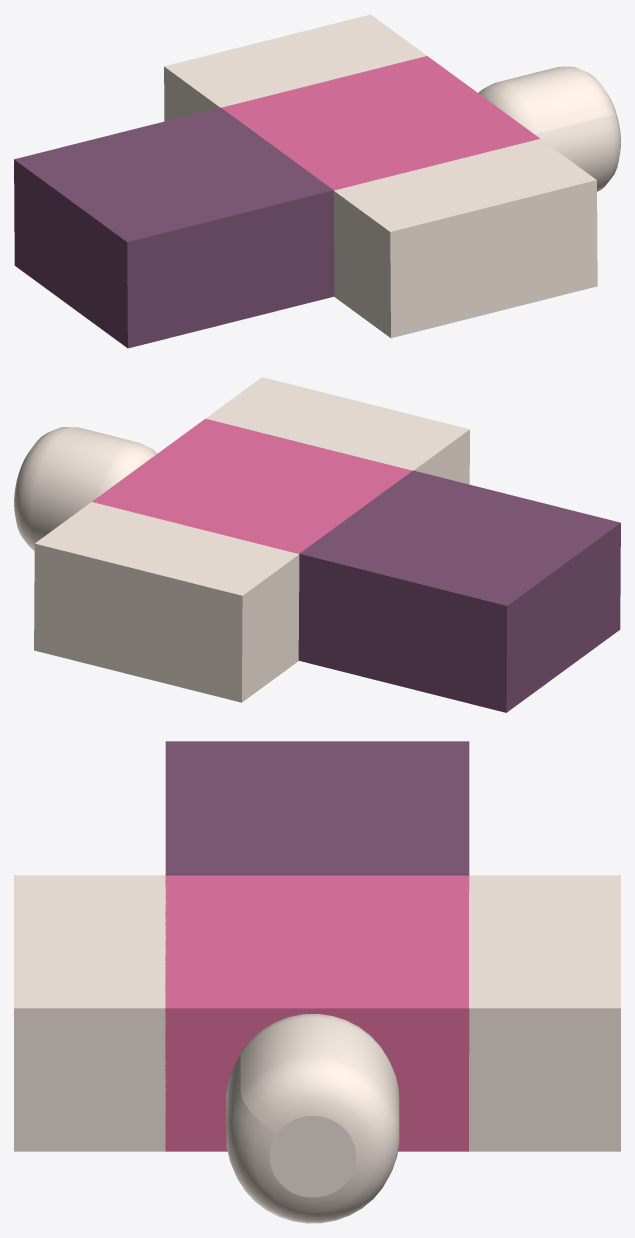
The model's file is player1.glb.
3 views of the same model, one above another, from view 1: azimuth 30°, elevation 25°; view 2: azimuth 150°, elevation 25°; view 3: azimuth 270°, elevation 25° (orthographic). The views are drawn at different scales.
Parts seen in each view (by area): view 1: Cube.003, Cube.002, Cube.001, Cube.004, Cube, Object_4; view 2: Cube, Cube.004, Cube.001, Cube.003, Cube.002, Object_4; view 3: Cube.001, Cube, Cube.002, Object_4, Cube.004, Cube.003.
Boxes of the visible parts, bbox=[...] form: Cube.003: bbox=[70, 149, 334, 348]; Cube.002: bbox=[333, 138, 597, 338]; Cube.001: bbox=[221, 56, 539, 190]; Cube.004: bbox=[14, 107, 276, 306]; Cube: bbox=[164, 14, 426, 121]; Object_4: bbox=[478, 66, 620, 191]; Cube: bbox=[34, 502, 299, 702]; Cube.004: bbox=[298, 512, 563, 712]; Cube.001: bbox=[92, 418, 412, 553]; Cube.003: bbox=[356, 470, 620, 670]; Cube.002: bbox=[206, 377, 469, 484]; Object_4: bbox=[14, 427, 157, 550]; Cube.001: bbox=[165, 875, 469, 1151]; Cube: bbox=[469, 875, 620, 1151]; Cube.002: bbox=[14, 875, 165, 1151]; Object_4: bbox=[226, 1014, 399, 1223]; Cube.004: bbox=[317, 741, 469, 875]; Cube.003: bbox=[165, 741, 317, 875].
Size of the model in its own units: 1.99 by 0.4384 by 1.48.
